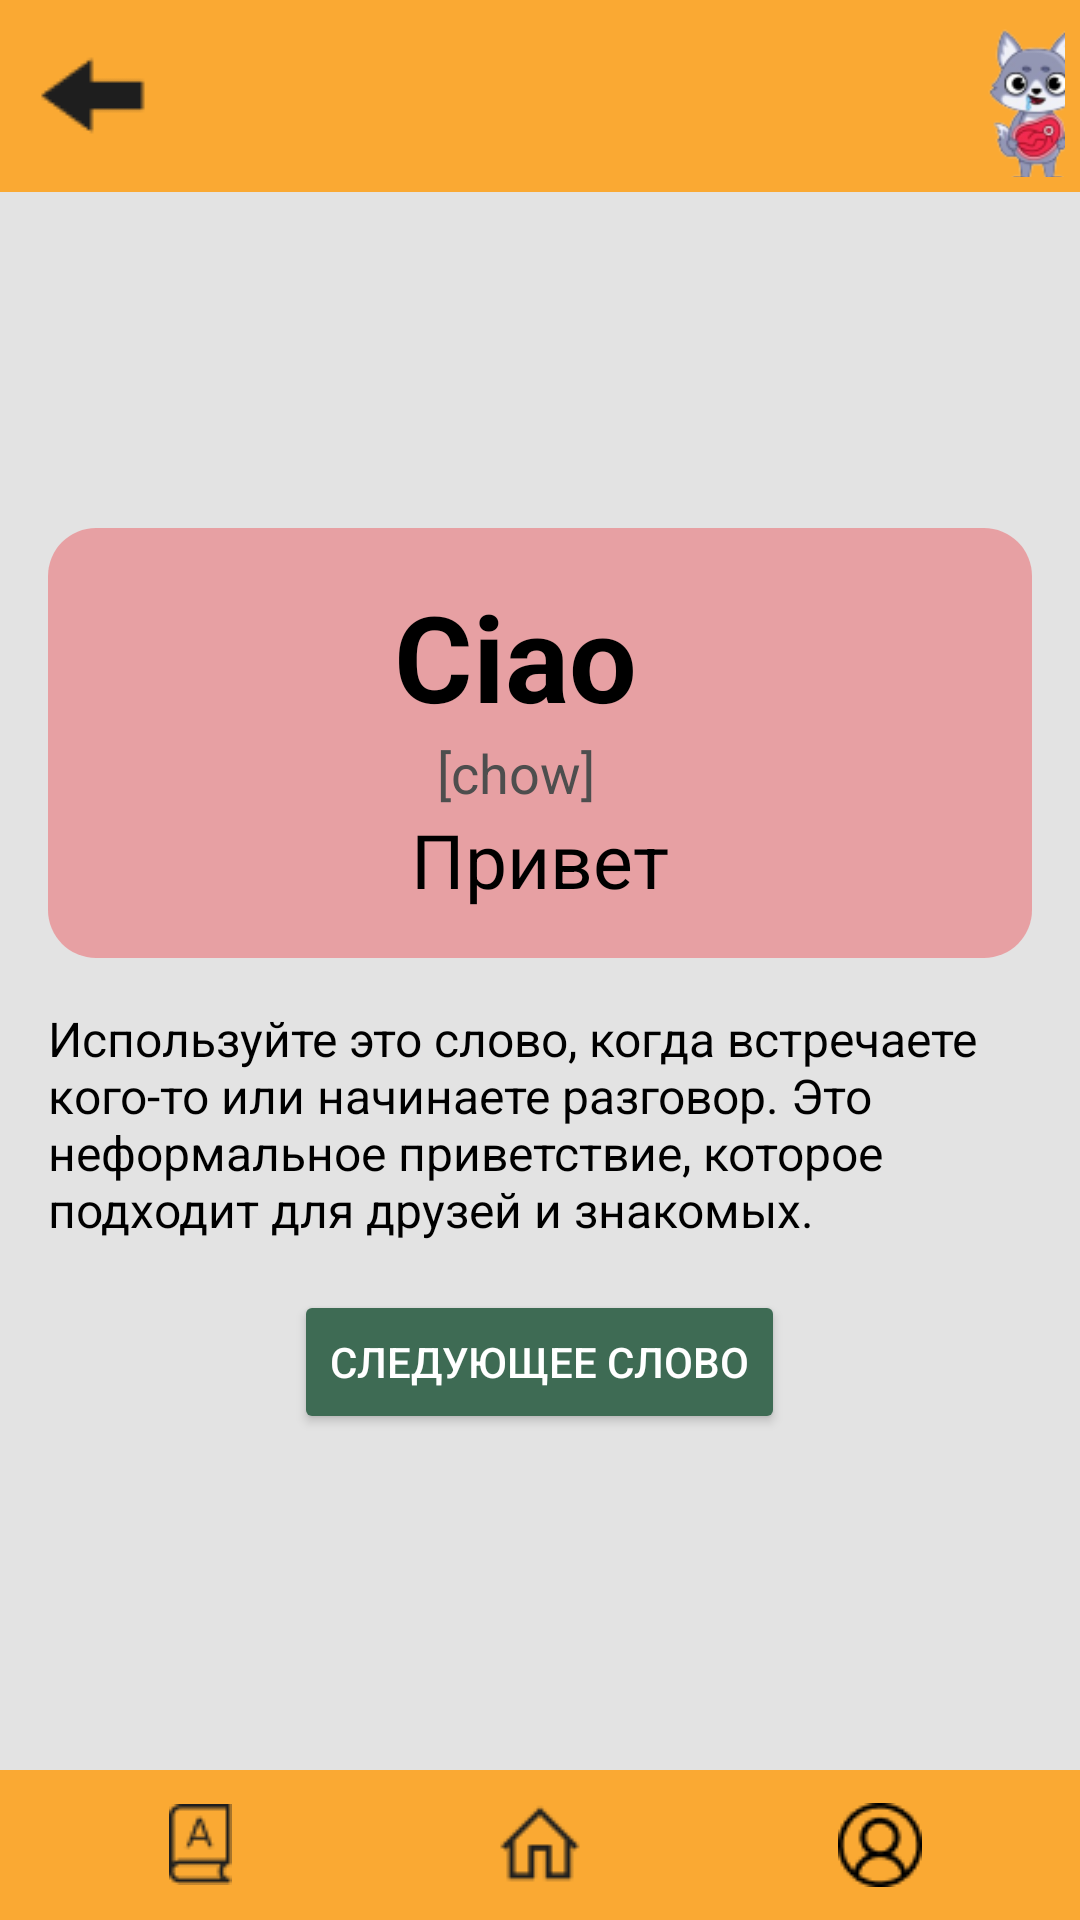

Icons on this 1080 × 1920 Android screen, each with its box as (x1, y1, x2, y2):
Аккаунт: (838, 1803, 922, 1887)
Главная: (500, 1807, 580, 1881)
Назад: (41, 58, 145, 133)
Словарь: (169, 1804, 232, 1885)
